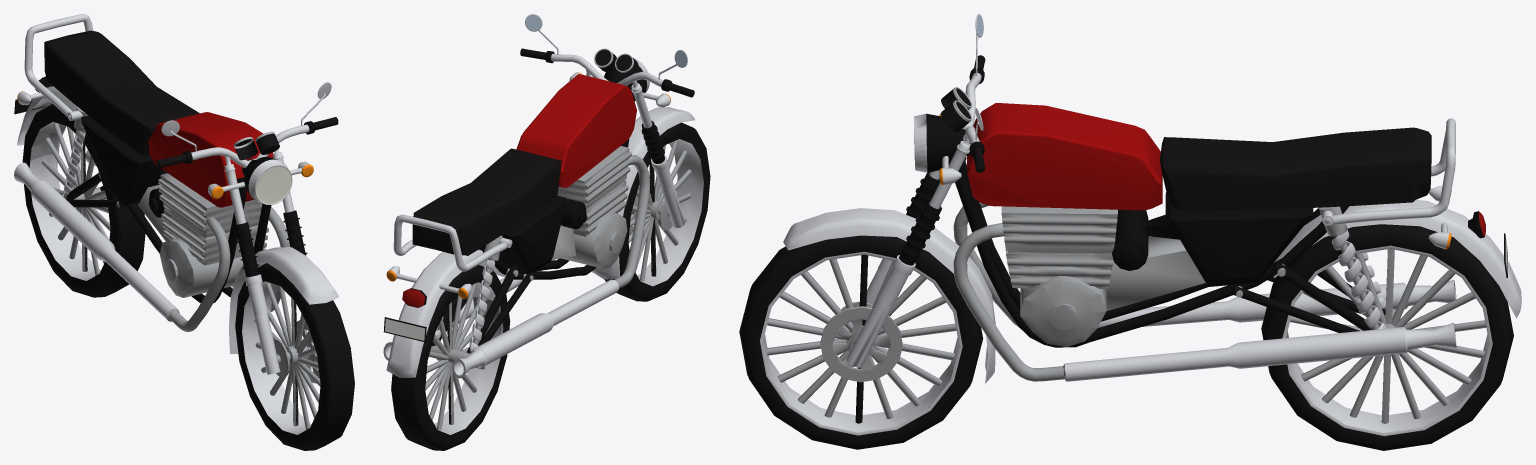
File: MotoCentrale.obj
The picture shows the model from 3 angles, left to right: view 1: azimuth 30°, elevation 25°; view 2: azimuth 150°, elevation 25°; view 3: azimuth 270°, elevation 25°; orthographic projection. The views are drawn at different scales.
Parts seen in each view (by area): view 1: Caisse_Corps_metalxengine, Caisse_Corps_leather, RoueAV_Corps_tire, Direction_Corps_metalxsilver, Caisse_Corps_metalxsilver, Caisse_Corps_metalxblack, Caisse_Peinture_metalxred, RoueAR_Corps_tire, RoueAV_Corps_metalxengine, RoueAV_Corps_metalxsilver, RoueAR_Corps_metalxengine, RoueAR_Corps_metalxsilver (+5 smaller); view 2: Caisse_Corps_metalxsilver, Caisse_Corps_leather, Caisse_Corps_metalxengine, Caisse_Peinture_metalxred, Caisse_Corps_metalxblack, RoueAR_Corps_tire, Direction_Corps_metalxsilver, RoueAV_Corps_tire, RoueAR_Corps_metalxengine, RoueAV_Corps_metalxsilver, RoueAR_Corps_metalxsilver, RoueAV_Corps_metalxengine (+8 smaller); view 3: Caisse_Corps_metalxengine, Caisse_Corps_metalxsilver, Caisse_Corps_metalxblack, Caisse_Corps_leather, Caisse_Peinture_metalxred, RoueAV_Corps_tire, RoueAR_Corps_tire, Direction_Corps_metalxsilver, RoueAR_Corps_metalxengine, RoueAV_Corps_metalxengine, RoueAR_Corps_metalxsilver, RoueAV_Corps_metalxsilver (+2 smaller).
Boxes of the visible parts, x1=… form: Caisse_Corps_metalxengine: x1=63, y1=106, x2=290, y2=331; Caisse_Corps_leather: x1=44, y1=30, x2=199, y2=154; RoueAV_Corps_tire: x1=235, y1=263, x2=354, y2=450; Direction_Corps_metalxsilver: x1=161, y1=82, x2=338, y2=374; Caisse_Corps_metalxsilver: x1=14, y1=14, x2=233, y2=320; Caisse_Corps_metalxblack: x1=35, y1=77, x2=271, y2=303; Caisse_Peinture_metalxred: x1=148, y1=112, x2=273, y2=207; RoueAR_Corps_tire: x1=22, y1=103, x2=145, y2=297; RoueAV_Corps_metalxengine: x1=254, y1=282, x2=320, y2=429; RoueAV_Corps_metalxsilver: x1=242, y1=281, x2=311, y2=434; RoueAR_Corps_metalxengine: x1=30, y1=123, x2=110, y2=275; RoueAR_Corps_metalxsilver: x1=29, y1=122, x2=100, y2=280; Caisse_Corps_metalxsilver: x1=385, y1=214, x2=618, y2=377; Caisse_Corps_leather: x1=412, y1=148, x2=561, y2=255; Caisse_Corps_metalxengine: x1=383, y1=146, x2=649, y2=378; Caisse_Peinture_metalxred: x1=516, y1=74, x2=636, y2=187; Caisse_Corps_metalxblack: x1=410, y1=138, x2=629, y2=353; RoueAR_Corps_tire: x1=391, y1=265, x2=510, y2=450; Direction_Corps_metalxsilver: x1=525, y1=14, x2=695, y2=279; RoueAV_Corps_tire: x1=605, y1=122, x2=710, y2=301; RoueAR_Corps_metalxengine: x1=425, y1=283, x2=501, y2=430; RoueAV_Corps_metalxsilver: x1=637, y1=139, x2=703, y2=286; RoueAR_Corps_metalxsilver: x1=434, y1=282, x2=503, y2=434; RoueAV_Corps_metalxengine: x1=628, y1=140, x2=691, y2=281; Caisse_Corps_metalxengine: x1=953, y1=202, x2=1456, y2=381; Caisse_Corps_metalxsilver: x1=1064, y1=118, x2=1521, y2=381; Caisse_Corps_metalxblack: x1=955, y1=157, x2=1484, y2=347; Caisse_Corps_leather: x1=1159, y1=127, x2=1431, y2=209; Caisse_Peinture_metalxred: x1=967, y1=103, x2=1162, y2=210; RoueAV_Corps_tire: x1=739, y1=235, x2=983, y2=449; RoueAR_Corps_tire: x1=1261, y1=224, x2=1513, y2=450; Direction_Corps_metalxsilver: x1=783, y1=14, x2=995, y2=383; RoueAR_Corps_metalxengine: x1=1286, y1=249, x2=1486, y2=423; RoueAV_Corps_metalxengine: x1=766, y1=255, x2=956, y2=418; RoueAR_Corps_metalxsilver: x1=1282, y1=245, x2=1492, y2=436; RoueAV_Corps_metalxsilver: x1=760, y1=251, x2=962, y2=435.
Bounding box in the file's own units: 0.6558 × 1.08 × 1.99.
